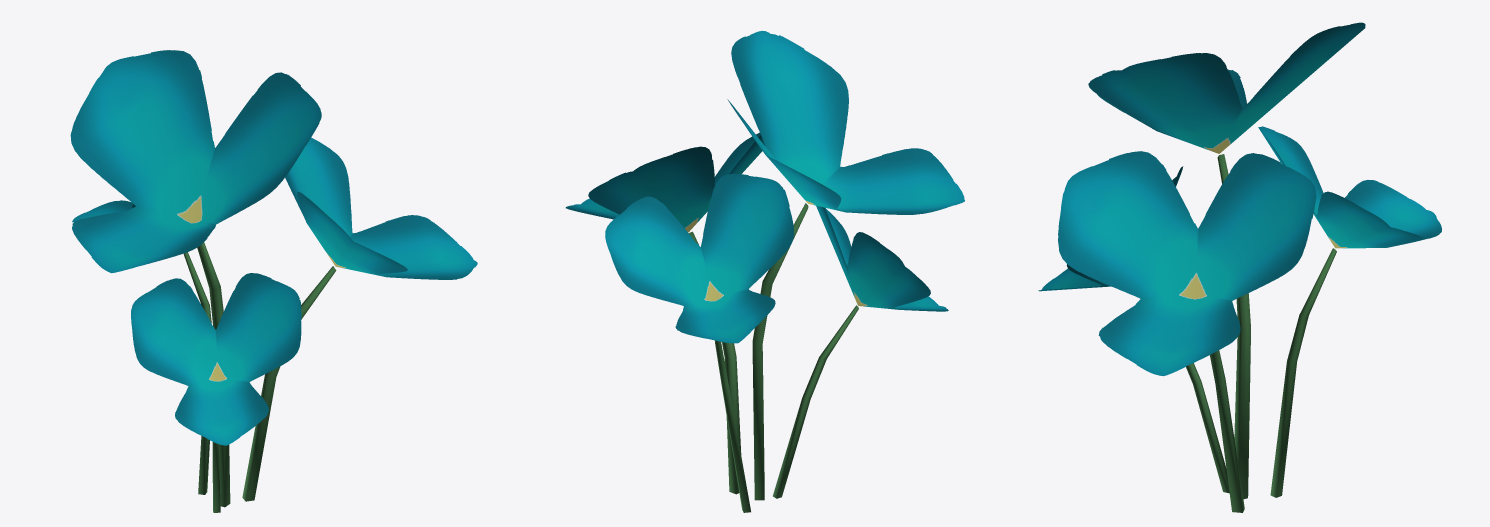
Rendered from flower_3_clump.gltf.
The picture shows the model from 3 angles, left to right: view 1: azimuth 30°, elevation 25°; view 2: azimuth 150°, elevation 25°; view 3: azimuth 270°, elevation 25°; orthographic projection. The views are drawn at different scales.
Visible parts, largest first — view 1: Flower_3_Clump; view 2: Flower_3_Clump; view 3: Flower_3_Clump.
Part boxes in pixels (<box>): Flower_3_Clump: <box>70,50,477,512</box>; Flower_3_Clump: <box>565,31,964,512</box>; Flower_3_Clump: <box>1038,22,1441,512</box>.
Size of the model in its own units: 0.426 by 0.4508 by 0.3735.
Materials: 1 (1 with a texture image).
